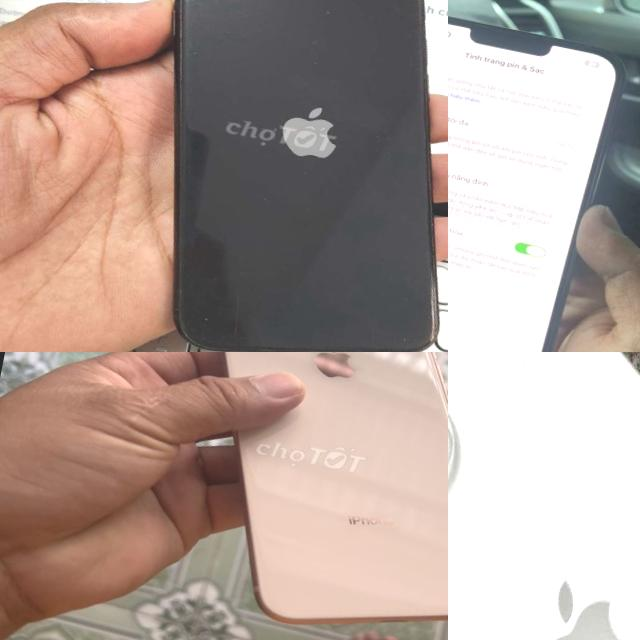gen_12_13: (448, 0, 623, 352)
gen_16: (448, 352, 640, 640)
gen_7_8: (148, 352, 448, 640)
scratch: (95, 0, 448, 352), (401, 251, 448, 352)
